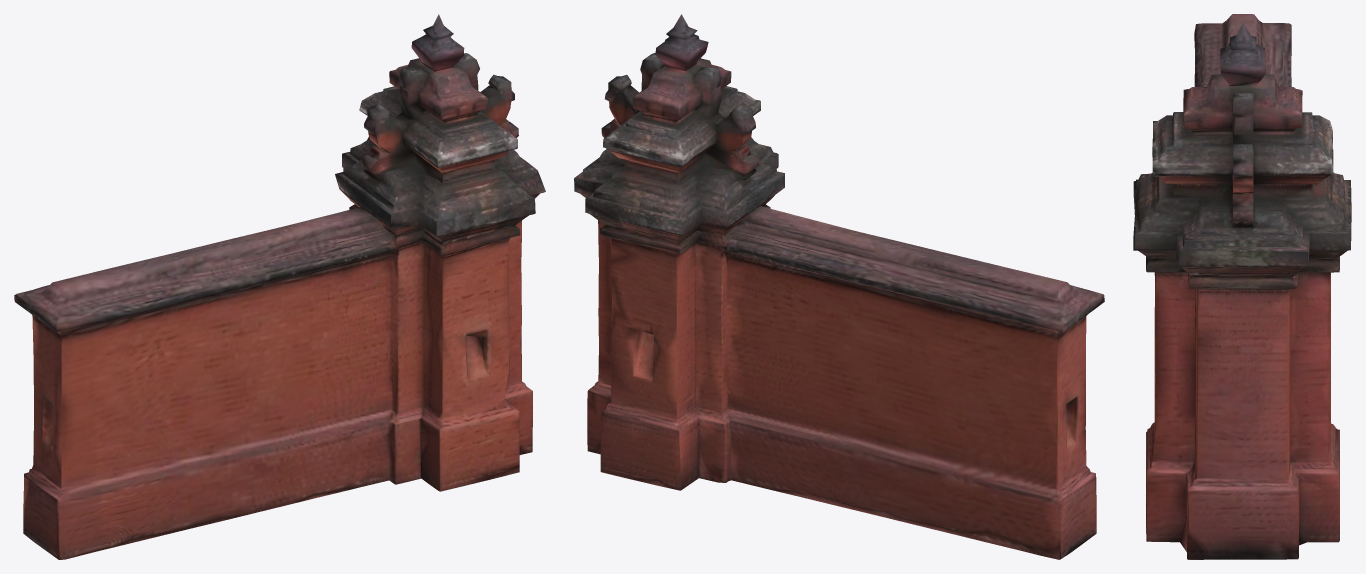
The model's file is tembok_bata.glb.
The picture shows the model from 3 angles, left to right: view 1: azimuth 30°, elevation 25°; view 2: azimuth 150°, elevation 25°; view 3: azimuth 270°, elevation 25°; orthographic projection. The views are drawn at different scales.
Visible parts, largest first — view 1: tripo_node_943eea36-198f-40b2-af12-7461f2f8de59; view 2: tripo_node_943eea36-198f-40b2-af12-7461f2f8de59; view 3: tripo_node_943eea36-198f-40b2-af12-7461f2f8de59.
Boxes of the visible parts, x1,y1,x2,y2 form: tripo_node_943eea36-198f-40b2-af12-7461f2f8de59: [14, 14, 545, 559]; tripo_node_943eea36-198f-40b2-af12-7461f2f8de59: [574, 14, 1104, 559]; tripo_node_943eea36-198f-40b2-af12-7461f2f8de59: [1133, 14, 1351, 559].
Bounding box in the file's own units: 0.6639 × 0.5753 × 0.2283.
Materials: 1 (1 with a texture image).
